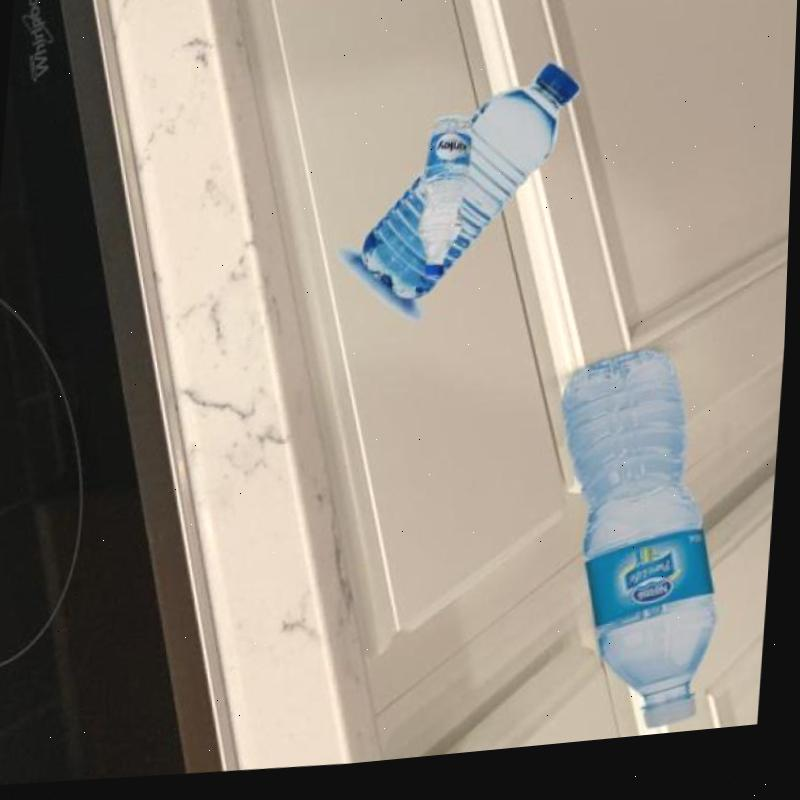botella: (546, 354, 740, 753), (360, 65, 583, 317), (420, 121, 478, 289)
